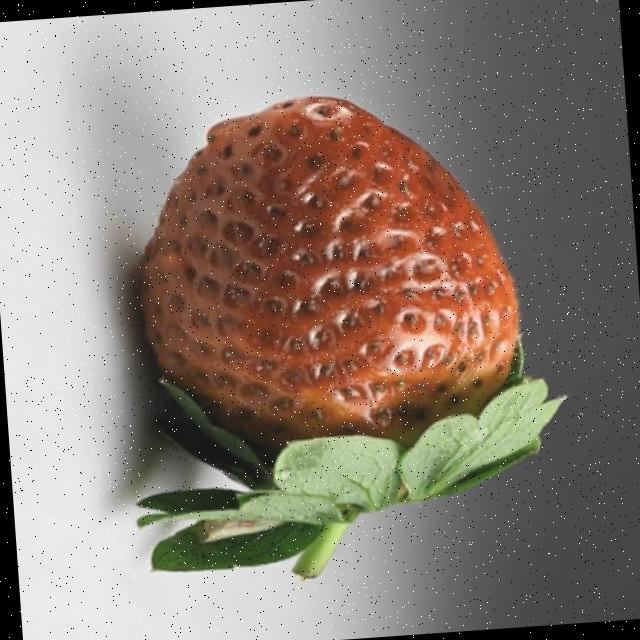strawberry: (139, 97, 561, 578)
